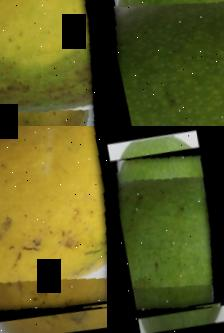Ripe: (0, 126, 107, 330), (0, 0, 107, 126)
Unripe: (110, 144, 224, 321), (107, 0, 224, 126)
